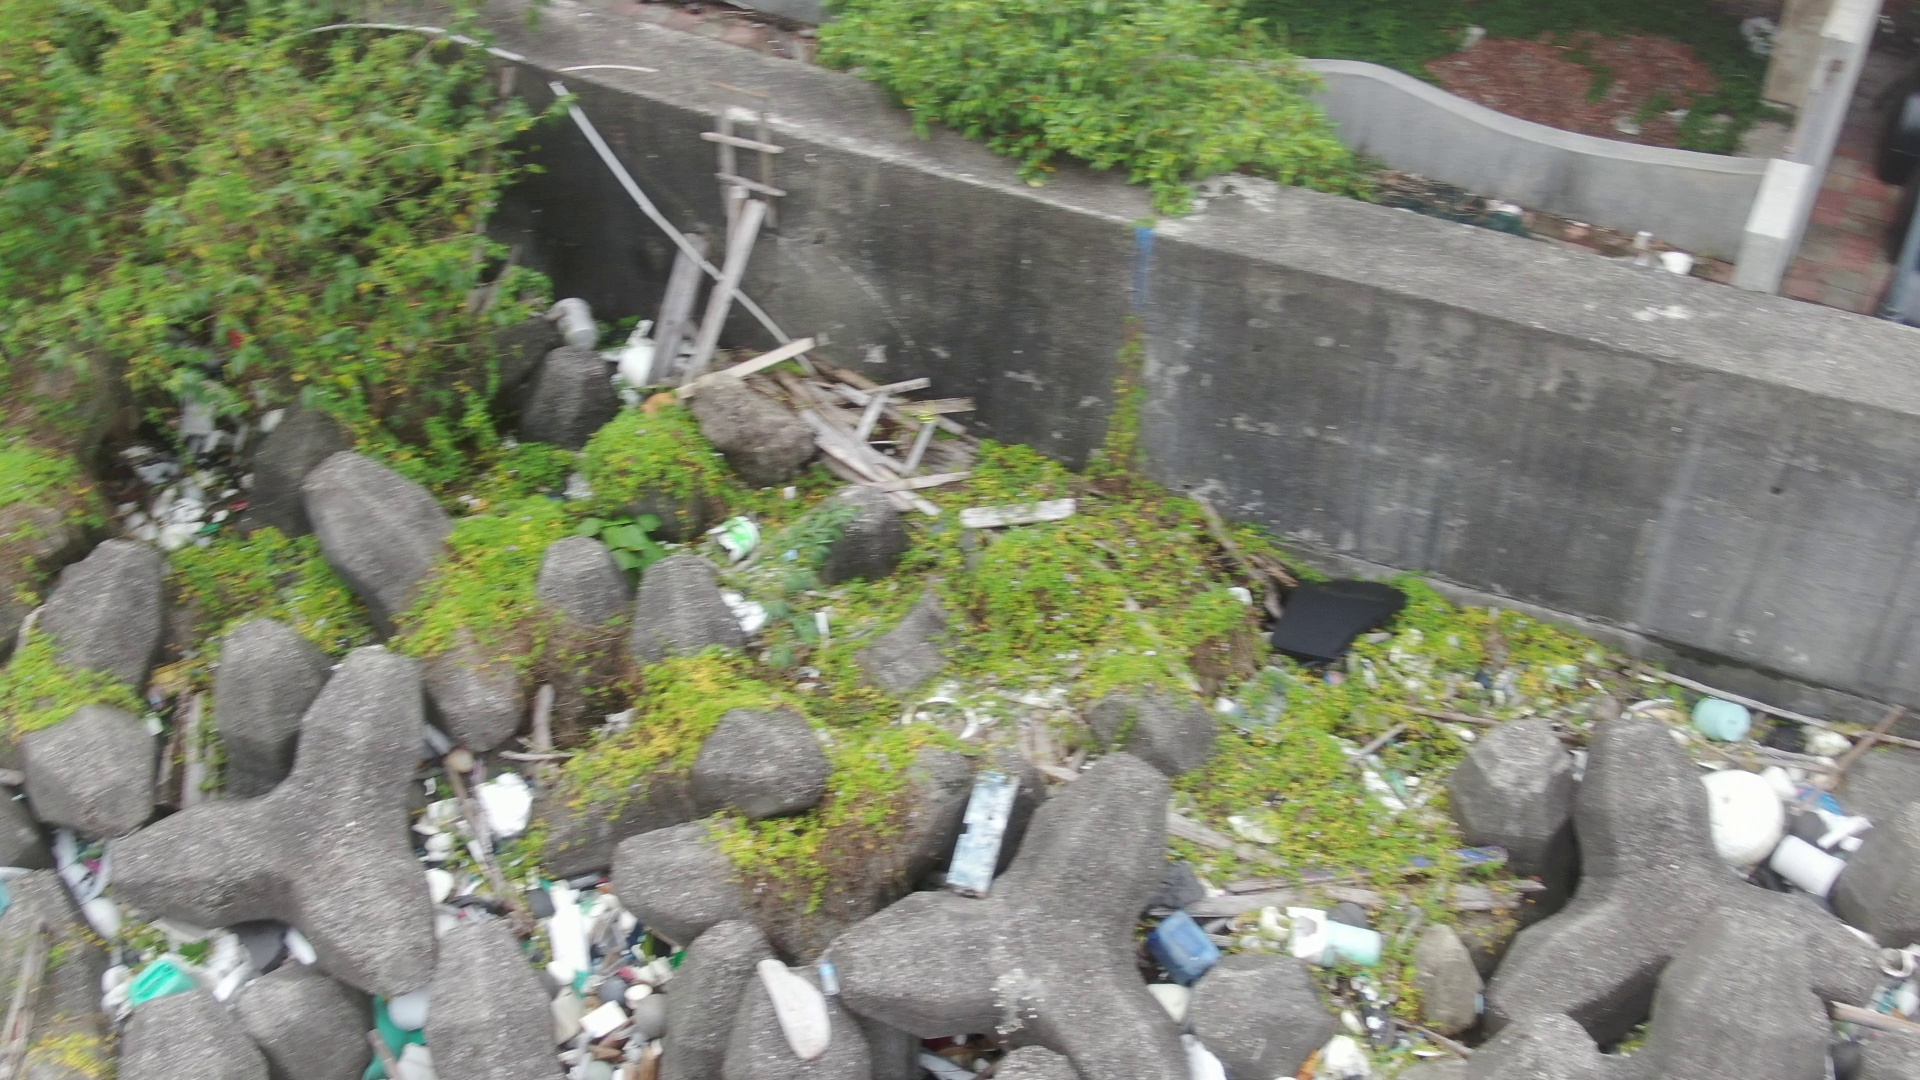garbage: (524, 862, 702, 1080), (95, 369, 284, 560), (1693, 760, 1876, 894), (407, 754, 550, 924), (88, 919, 268, 1015), (1269, 556, 1418, 665), (541, 299, 698, 394), (1286, 976, 1407, 1080), (938, 779, 1029, 899), (1822, 938, 1920, 1047), (1253, 901, 1393, 972), (753, 952, 839, 1062), (357, 976, 444, 1080), (1453, 840, 1545, 934), (1342, 733, 1423, 820), (1139, 901, 1218, 985), (1155, 1006, 1230, 1080), (1687, 686, 1762, 749), (696, 513, 767, 564), (1648, 224, 1709, 281), (712, 589, 771, 636), (1487, 186, 1552, 227), (909, 1038, 971, 1080)
